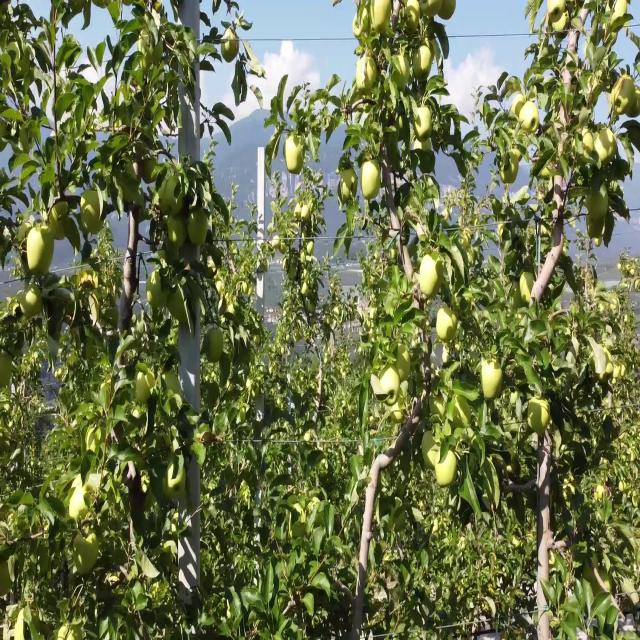apple: (26, 223, 54, 274), (78, 188, 105, 233), (72, 534, 100, 577), (610, 70, 636, 115), (70, 474, 96, 519), (358, 161, 384, 203), (146, 262, 168, 310), (413, 102, 438, 143), (285, 129, 308, 173), (480, 357, 503, 400), (187, 206, 208, 251), (434, 444, 456, 486), (418, 255, 442, 293), (133, 362, 152, 407), (379, 365, 399, 407), (587, 182, 608, 222), (338, 161, 359, 200), (528, 395, 550, 432), (205, 325, 224, 366), (596, 120, 615, 161), (389, 55, 410, 92), (220, 26, 242, 61), (355, 55, 376, 91), (438, 307, 459, 343), (167, 463, 186, 501), (164, 176, 184, 212), (49, 205, 69, 240), (572, 128, 593, 161), (420, 433, 440, 467), (414, 45, 432, 82), (520, 102, 540, 131), (370, 3, 392, 29), (500, 152, 517, 184), (395, 343, 410, 379), (597, 347, 613, 380), (168, 215, 184, 246), (606, 0, 627, 23), (454, 395, 471, 423), (2, 348, 14, 387), (21, 288, 39, 313), (520, 271, 534, 303), (404, 0, 419, 29), (584, 552, 598, 582), (352, 9, 367, 36), (554, 14, 570, 38), (547, 0, 565, 21), (429, 394, 446, 415), (587, 214, 601, 239), (420, 0, 441, 16), (440, 0, 456, 19), (599, 570, 611, 593), (510, 95, 522, 114)
